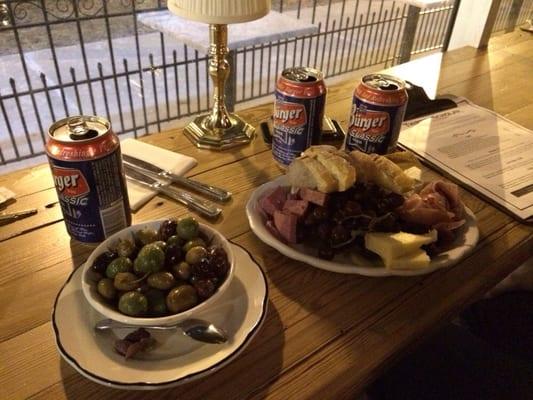sandwich: (122, 157, 230, 221), (123, 159, 233, 205)
sushi: (81, 215, 237, 339)
